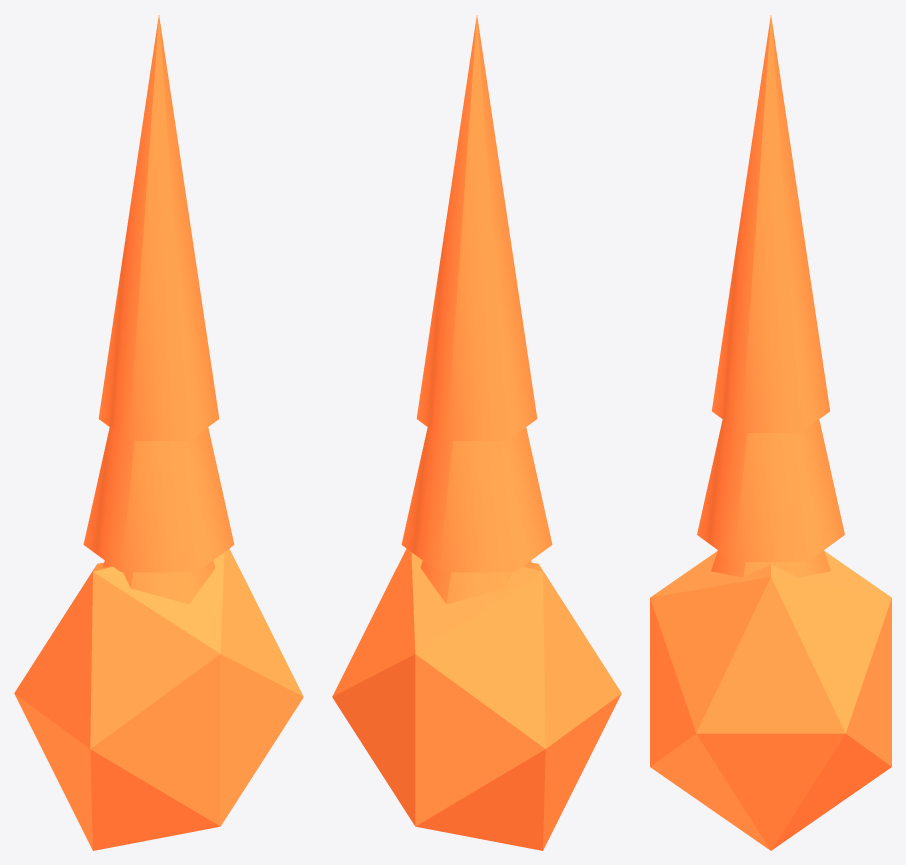
Rendered from ember_projectile.glb.
The picture shows the model from 3 angles, left to right: view 1: azimuth 30°, elevation 25°; view 2: azimuth 150°, elevation 25°; view 3: azimuth 270°, elevation 25°; orthographic projection.
Visible parts, largest first — view 1: ember-projectile; view 2: ember-projectile; view 3: ember-projectile.
Boxes of the visible parts, x1,y1,x2,y2 form: ember-projectile: (14, 15, 303, 850); ember-projectile: (332, 15, 621, 850); ember-projectile: (650, 15, 891, 850).
Bounding box in the file's own units: 0.4084 × 1.5 × 0.4084.
